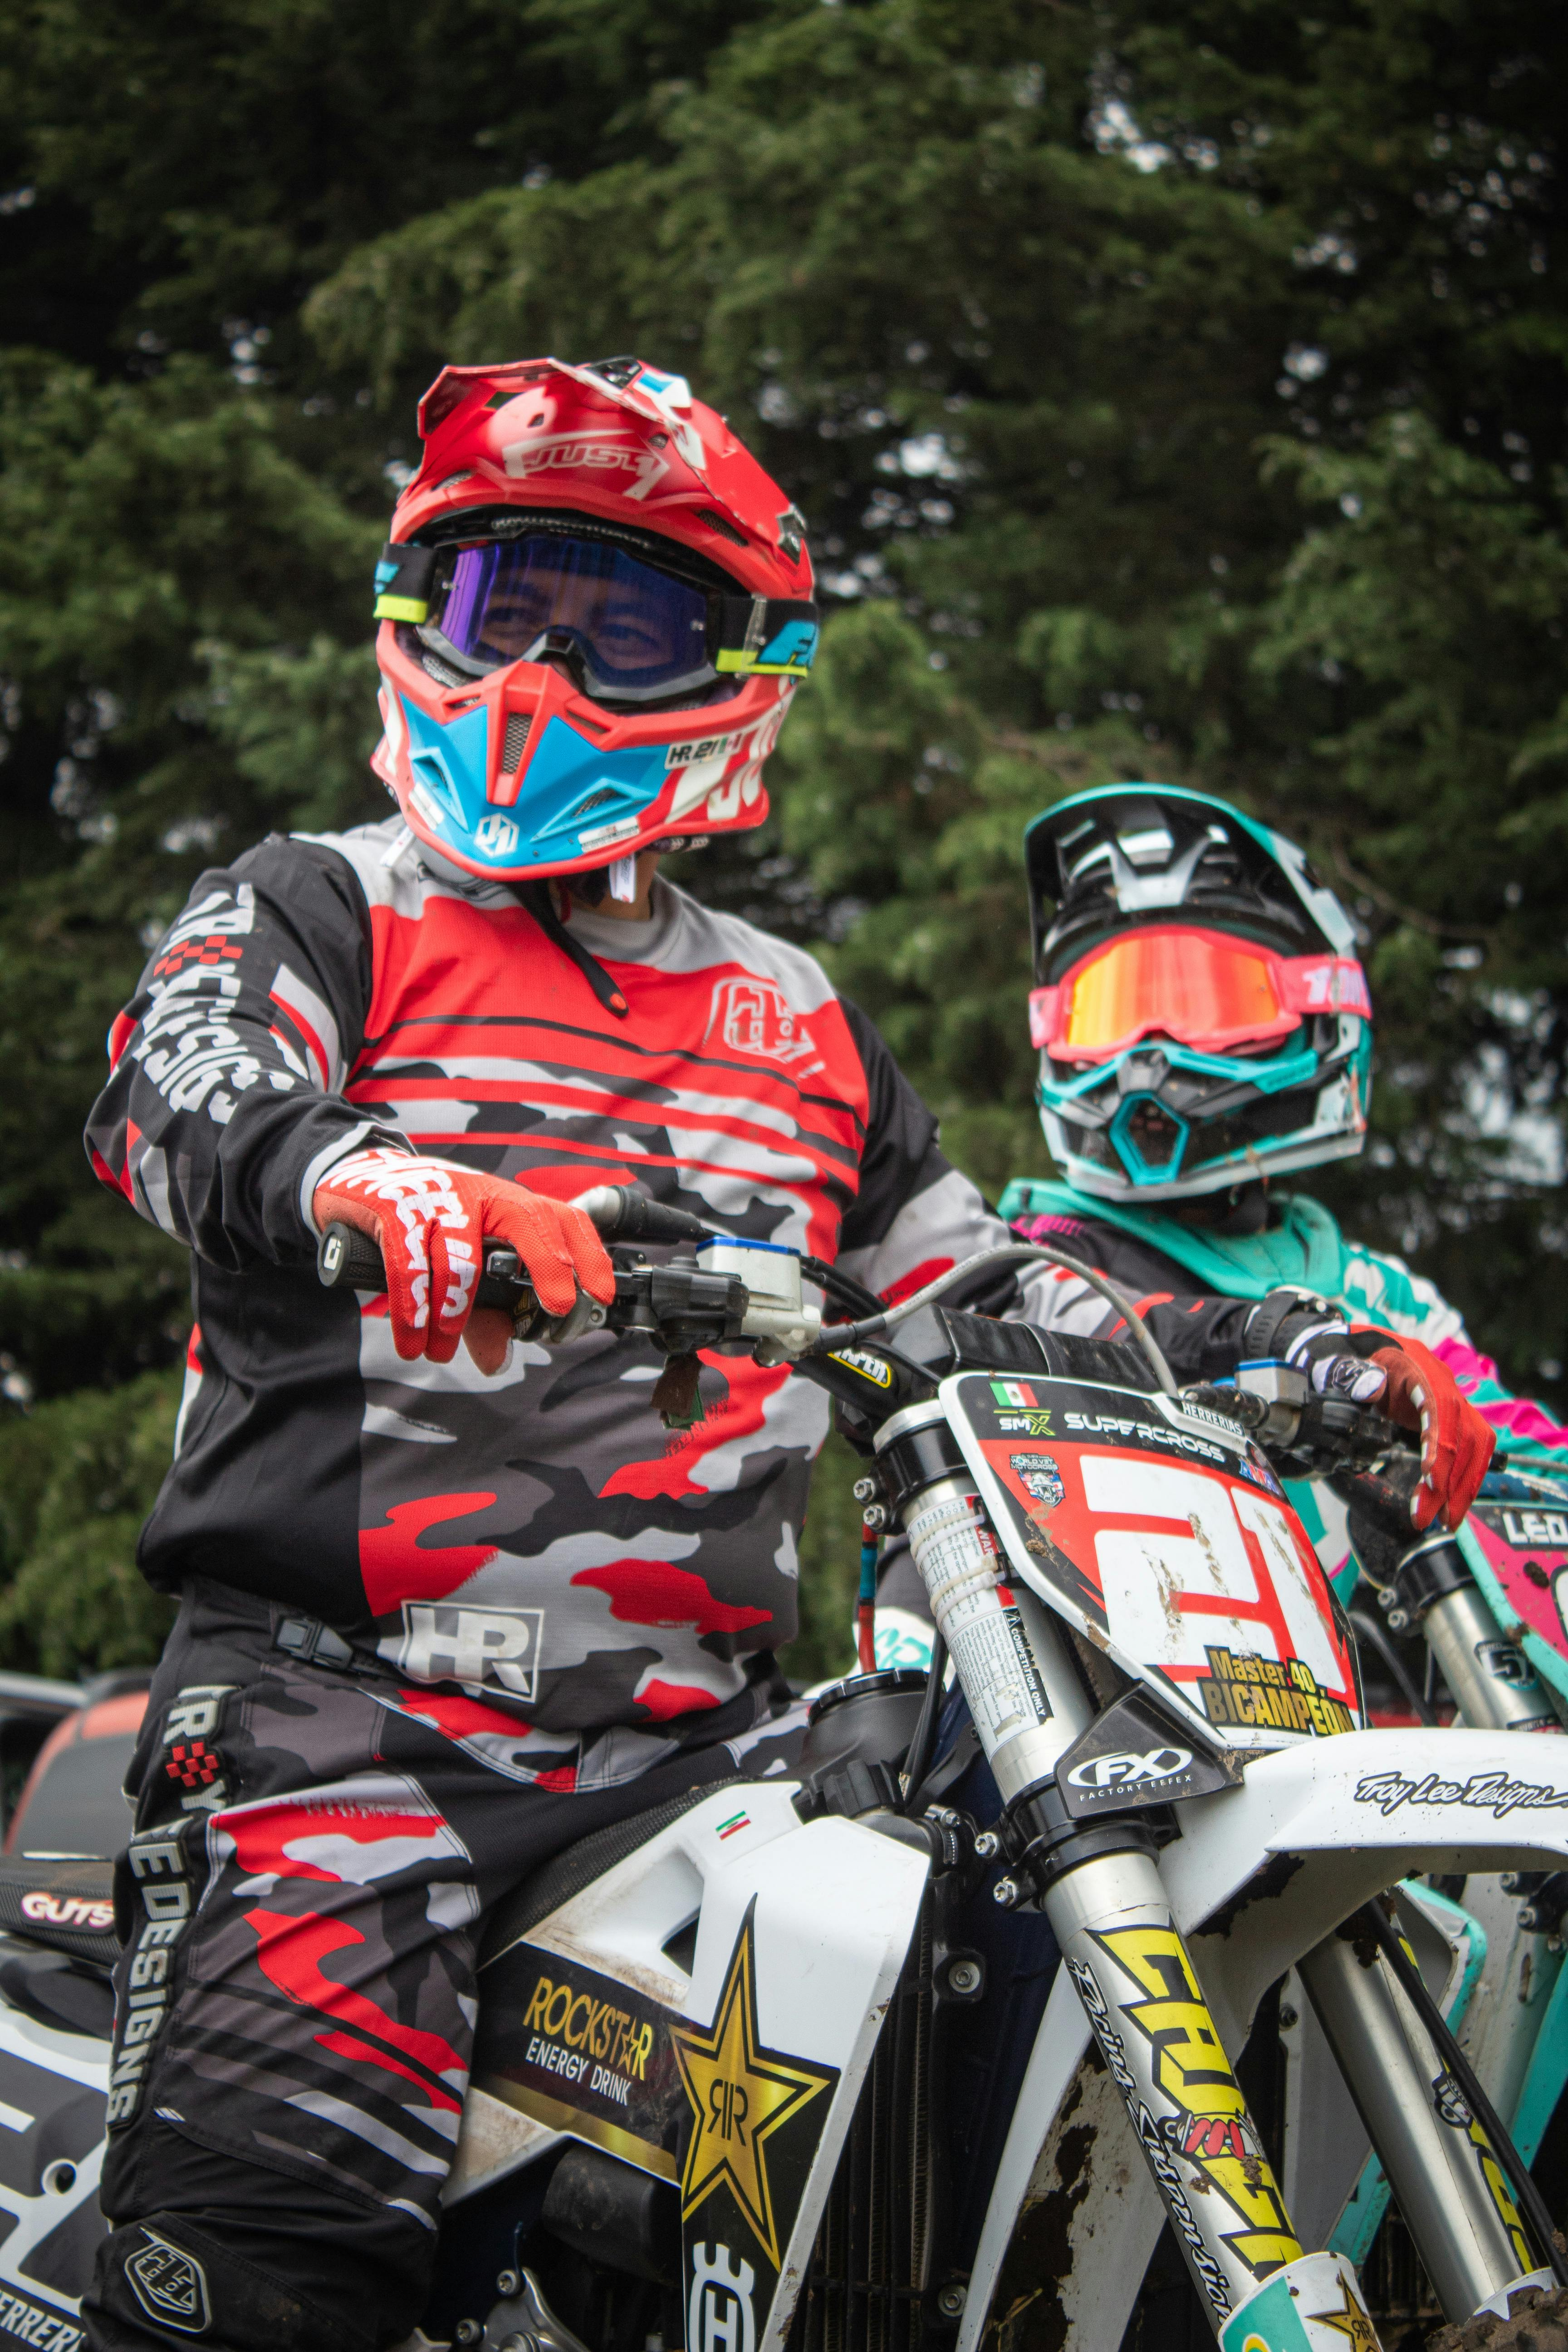capacete: (362, 340, 821, 892), (1013, 775, 1379, 1206)
